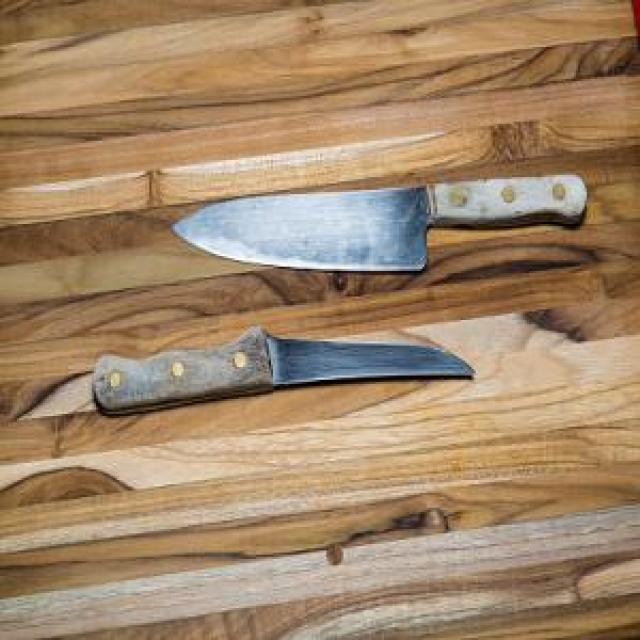knife: (171, 170, 590, 268), (96, 324, 478, 416)
